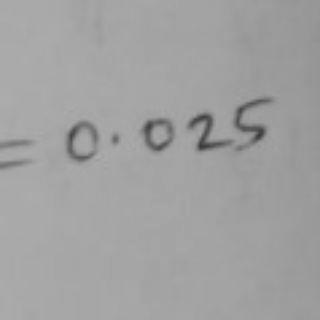.: (109, 131, 120, 144)
0: (66, 120, 100, 165), (141, 118, 176, 156)
2: (184, 111, 233, 153)
5: (234, 97, 277, 154)
